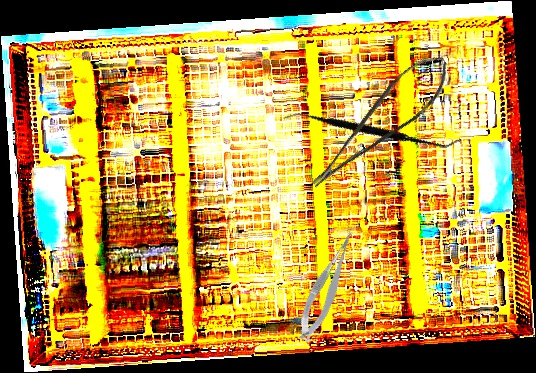Micro Scissor: (291, 46, 463, 193), (287, 227, 369, 345)
Spatula Surgical: (282, 59, 462, 199)
